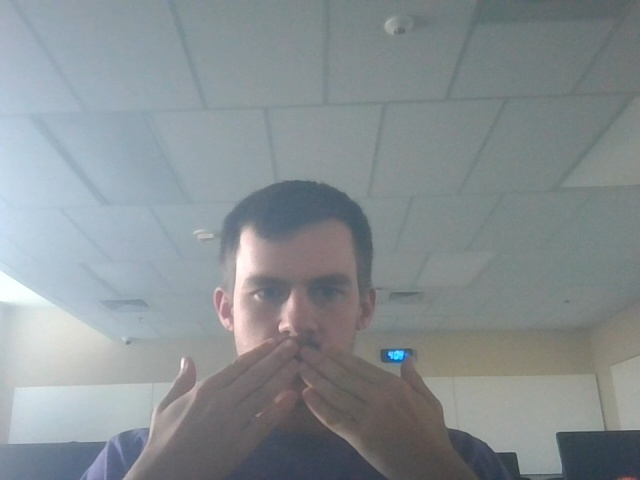thanks: (137, 341, 480, 473)
